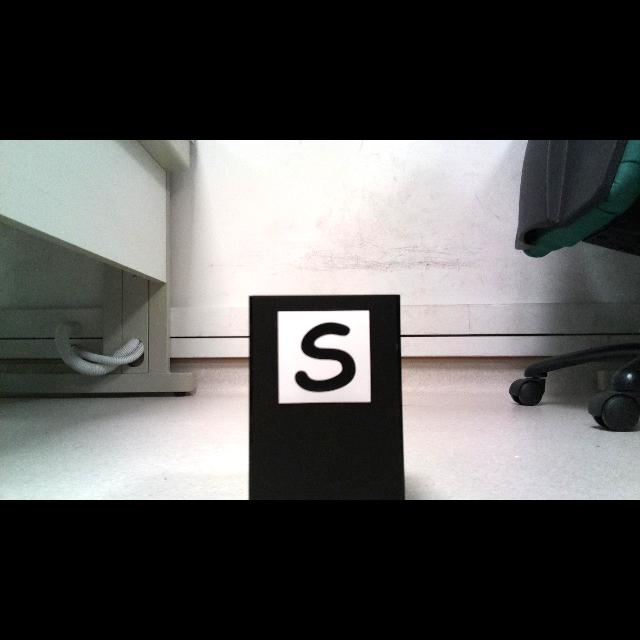S: (294, 322, 355, 393)
